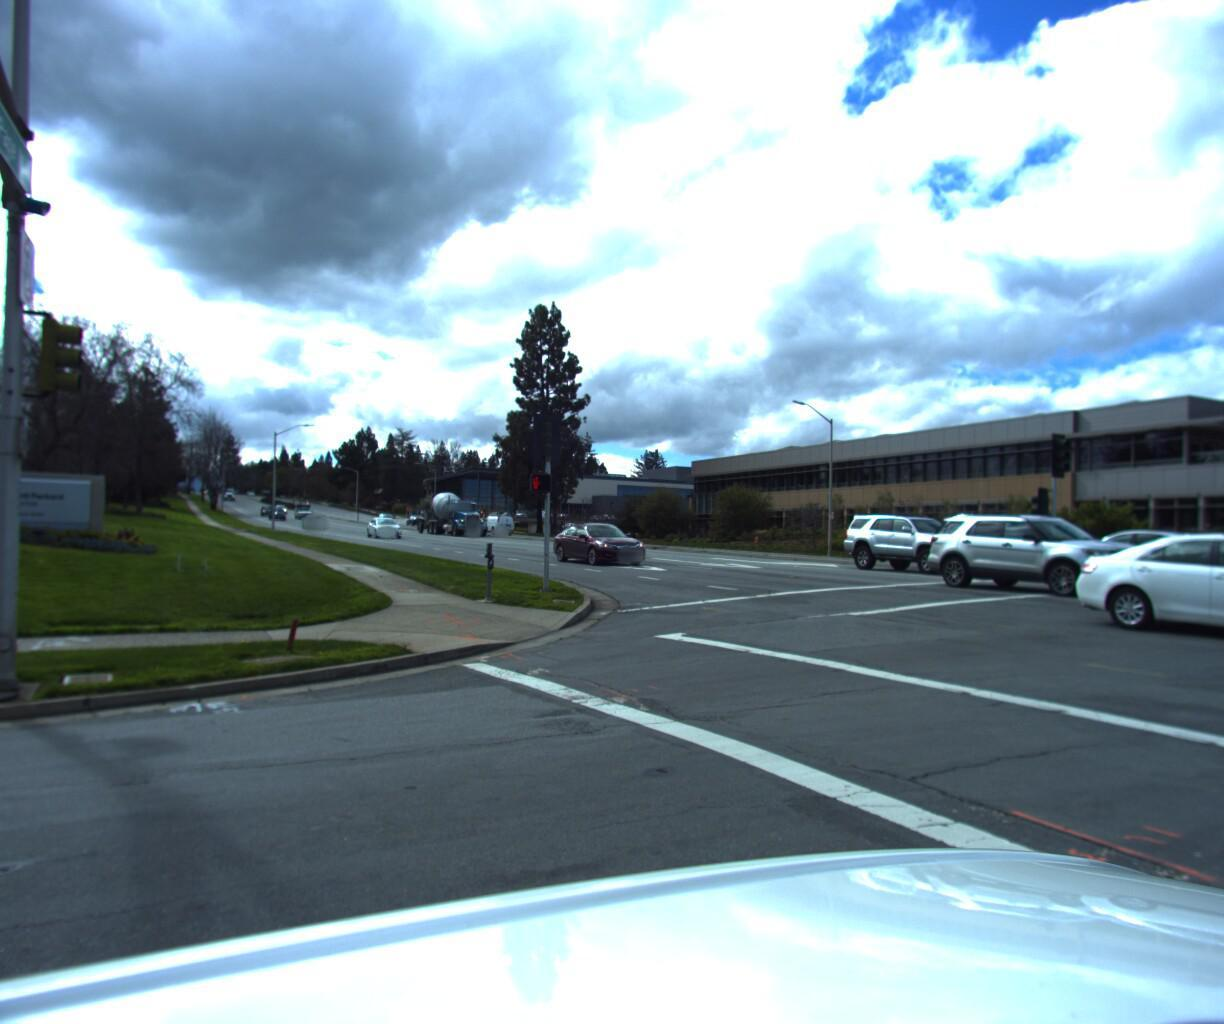car: (1065, 532, 1224, 666), (909, 517, 1144, 601), (823, 513, 985, 580), (1052, 531, 1224, 593), (548, 529, 648, 573), (363, 525, 402, 547)
other_vehicle: (414, 493, 499, 543)
truck: (480, 516, 516, 541)
